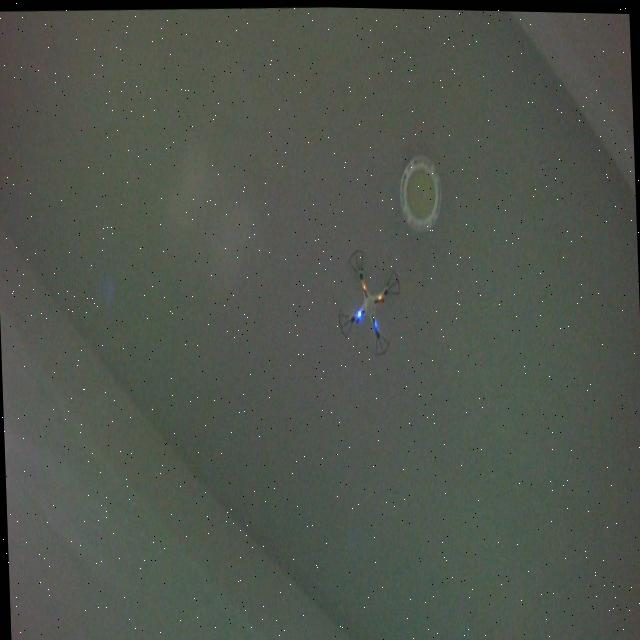drone: (332, 242, 406, 359)
